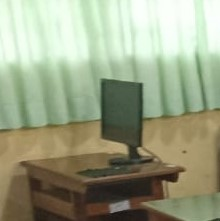monitor: (99, 79, 153, 165)
